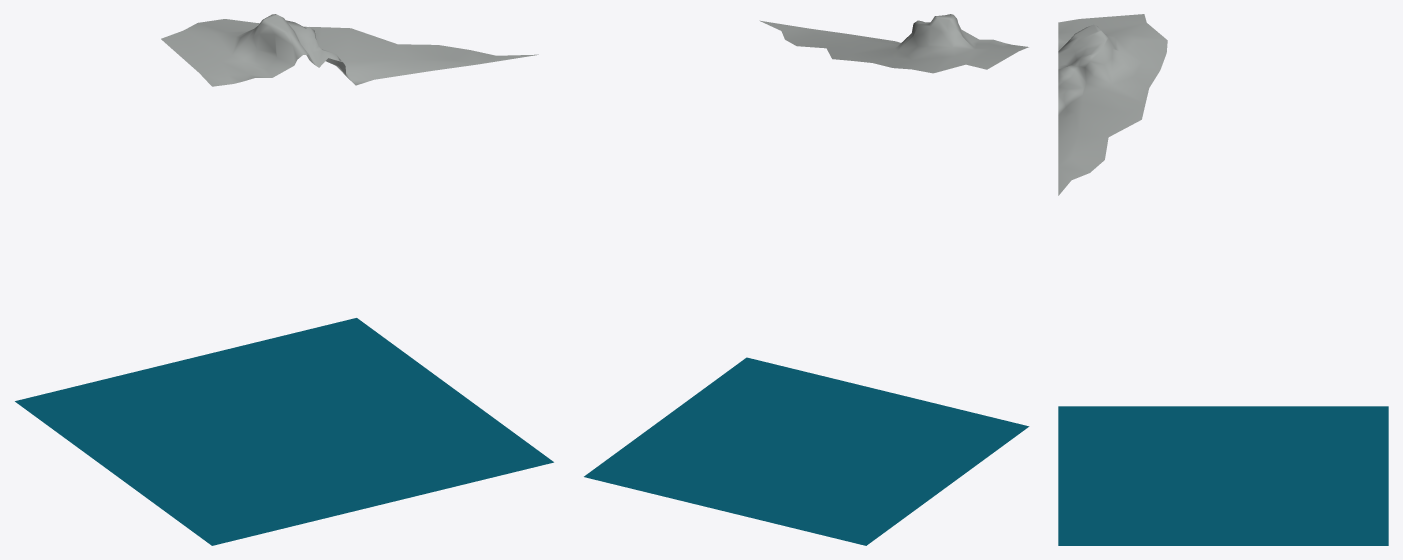
The picture shows the model from 3 angles, left to right: view 1: azimuth 30°, elevation 25°; view 2: azimuth 150°, elevation 25°; view 3: azimuth 270°, elevation 25°; orthographic projection. The views are drawn at different scales.
Parts seen in each view (by area): view 1: G:\FFXIV-MapTools\exports\s1f3\bg\ffxiv\sea_s1\fld\s1f3\bgpl (×6); view 2: G:\FFXIV-MapTools\exports\s1f3\bg\ffxiv\sea_s1\fld\s1f3\bgpl (×4); view 3: G:\FFXIV-MapTools\exports\s1f3\bg\ffxiv\sea_s1\fld\s1f3\bgpl (×6).
Part boxes in pixels (bbox=[...]): G:\FFXIV-MapTools\exports\s1f3\bg\ffxiv\sea_s1\fld\s1f3\bgpl (×6): bbox=[15, 14, 553, 545]; G:\FFXIV-MapTools\exports\s1f3\bg\ffxiv\sea_s1\fld\s1f3\bgpl (×4): bbox=[584, 14, 1029, 545]; G:\FFXIV-MapTools\exports\s1f3\bg\ffxiv\sea_s1\fld\s1f3\bgpl (×6): bbox=[1058, 14, 1388, 545].
Size of the model in its own units: 128 by 176 by 128.
